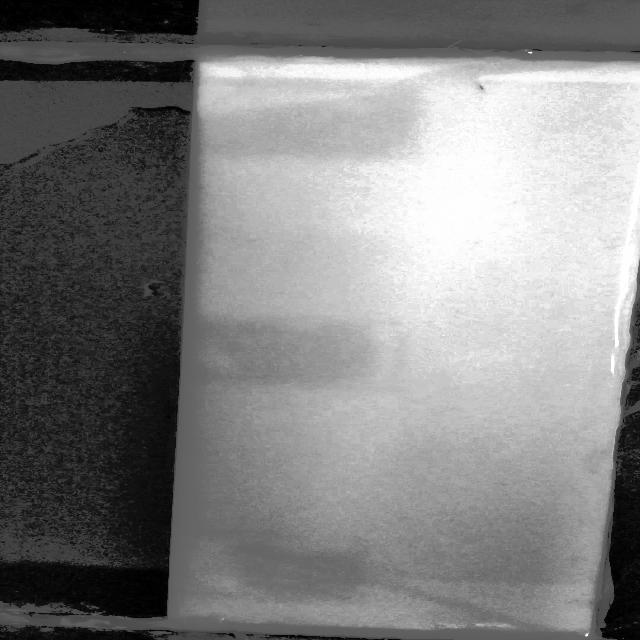shrimp: (466, 76, 494, 93)
